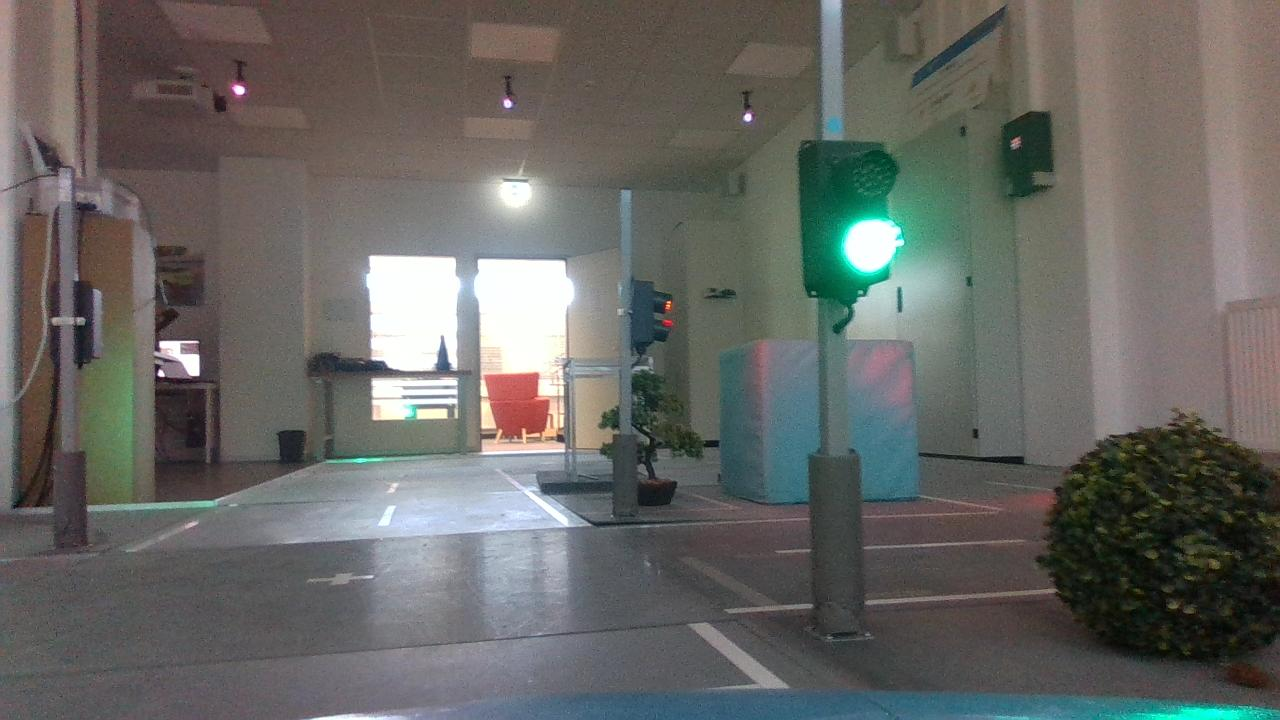traffic_light_green: (781, 121, 921, 305)
